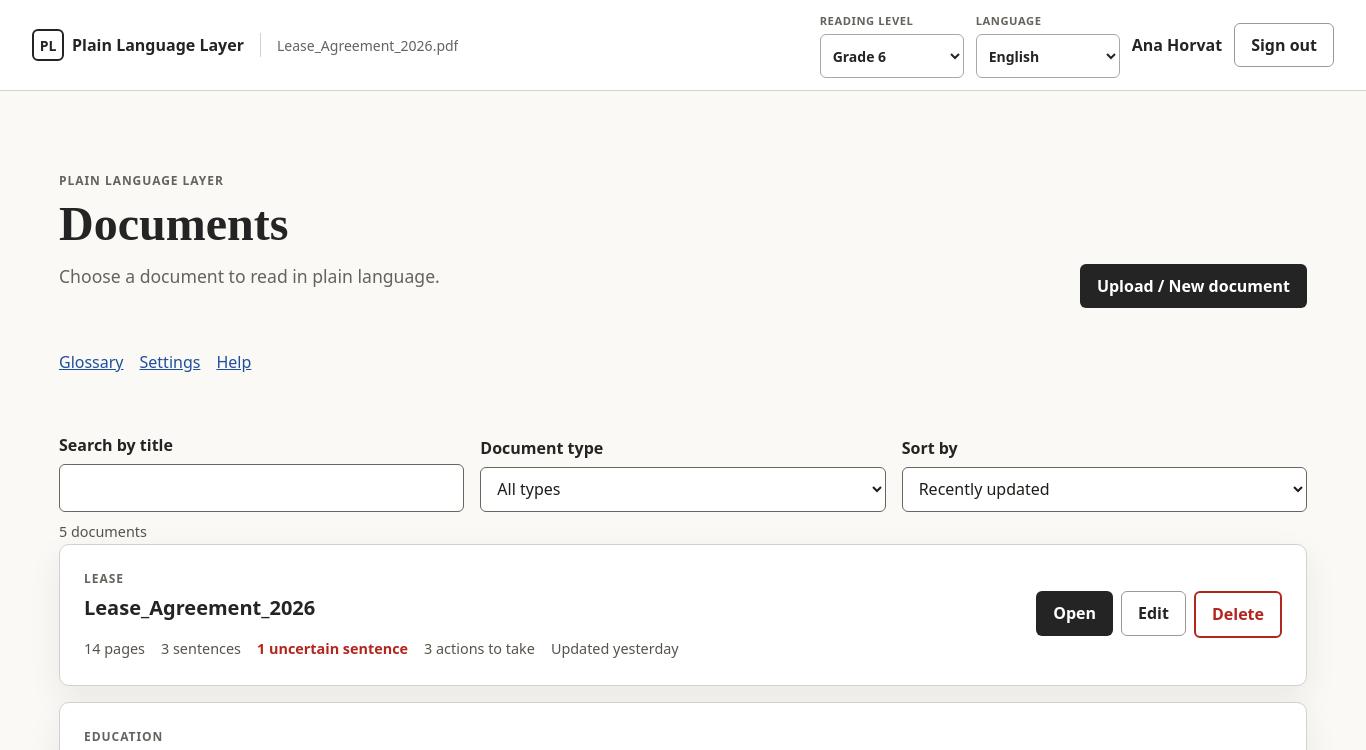
Scenario: documents list (screens 04 / 06) › filters by type
The image size is (1366, 750).
Expected: the heading "Lease_Agreement_2026" is shown, [84, 594, 315, 621]
Select "Education" in the dropdown labelled "Document type" at (683, 489), box [480, 467, 886, 512]
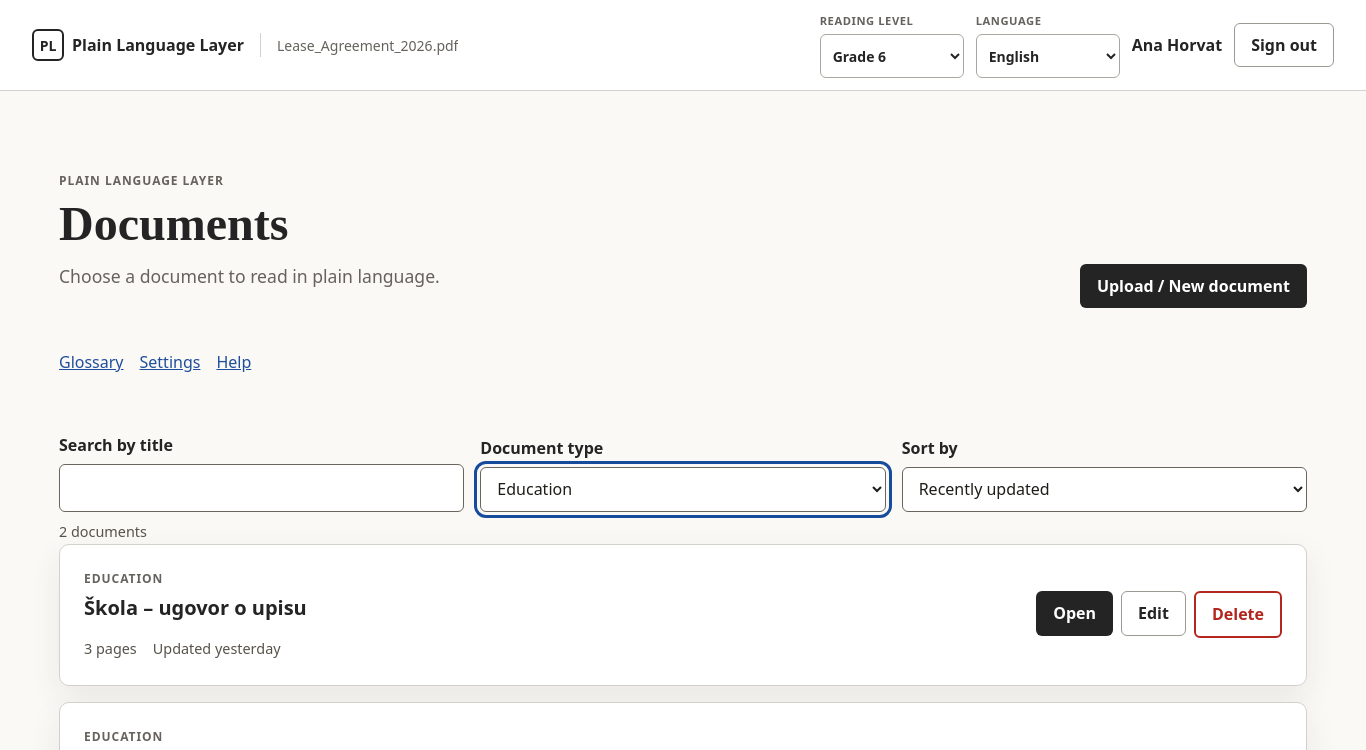
Expected: the text "2 documents" is shown, [59, 522, 147, 541]
